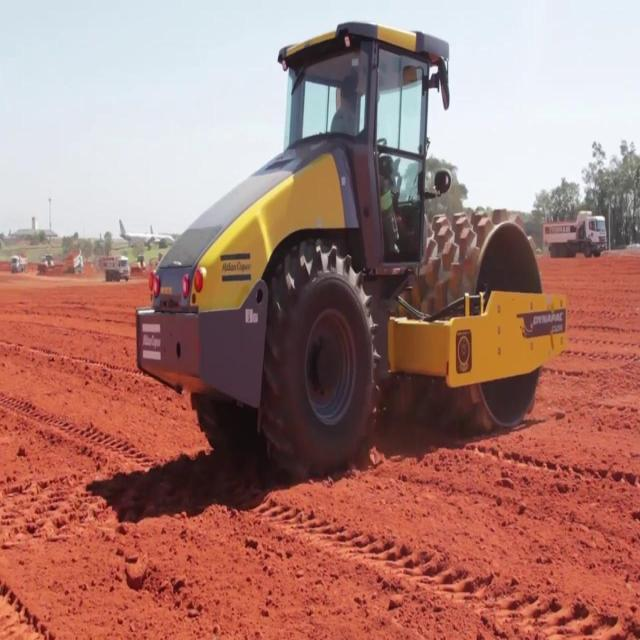dump_truck: (546, 208, 606, 255)
